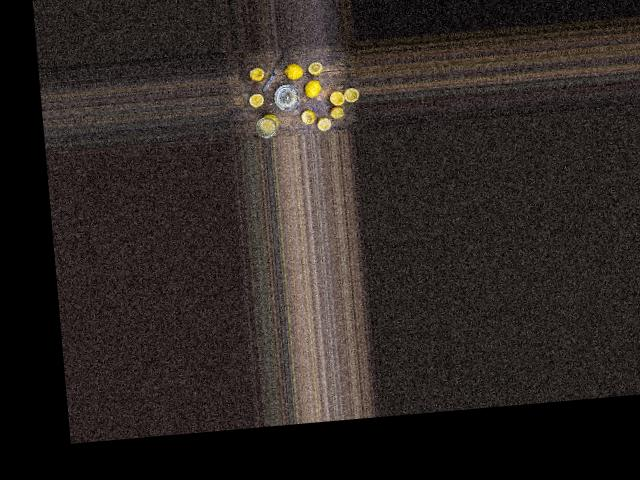lemon: (284, 63, 310, 82)
